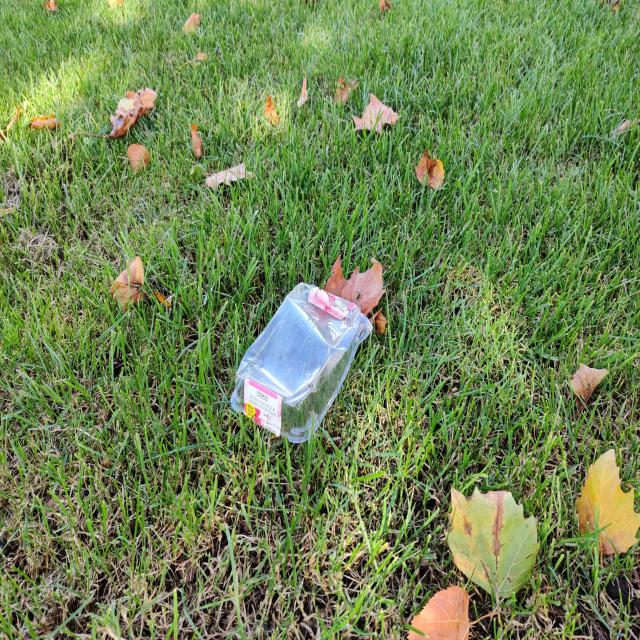litter: (228, 279, 377, 451)
